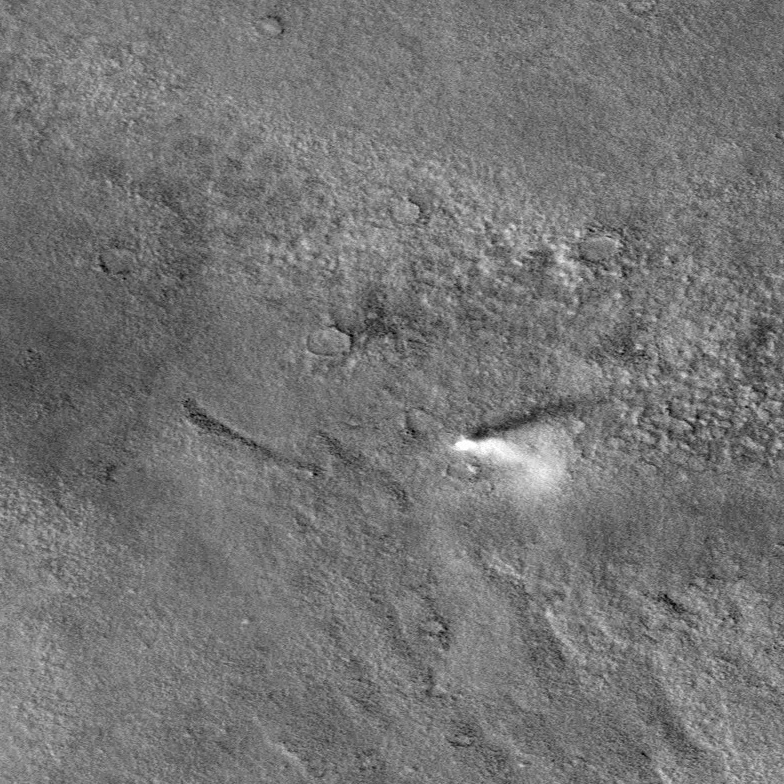dust_devil: (446, 393, 596, 497)
